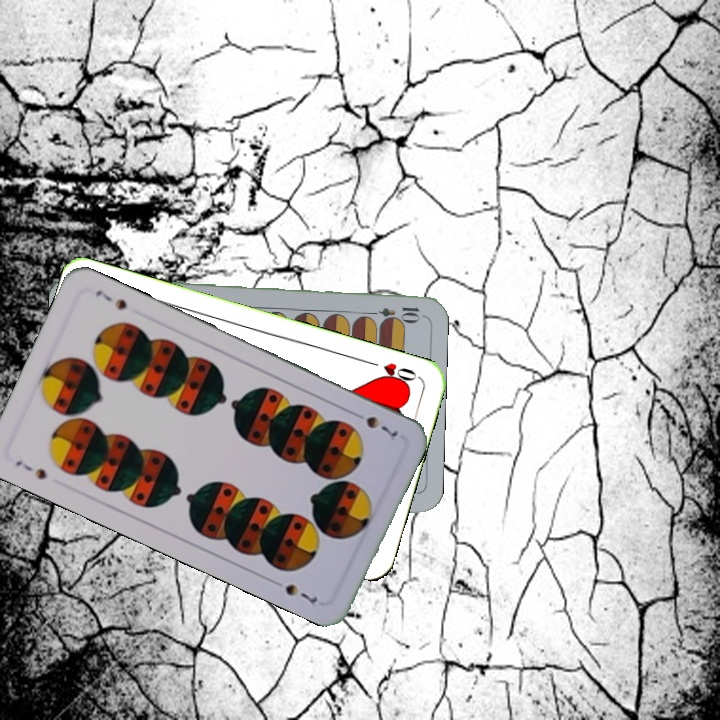E10: (363, 302, 422, 321)
HO: (363, 356, 421, 389)
S7: (348, 407, 401, 440), (11, 456, 49, 483)
